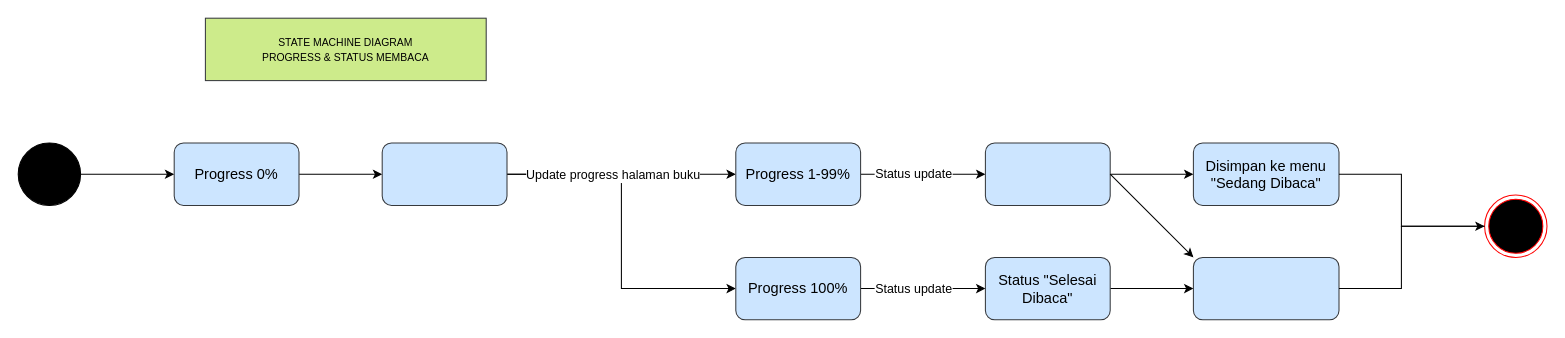
The diagram is 1565 pixels wide and 338 high, and some of its shapes have lost their labels. Here are the shapes that lost their labels. From the top down, the centre of each, then its label:
point 444,173: Status "Belum dibaca"
point 1047,173: Status "Sedang Dibaca"
point 1265,288: Disimpan ke menu "Riwayat Membaca"
